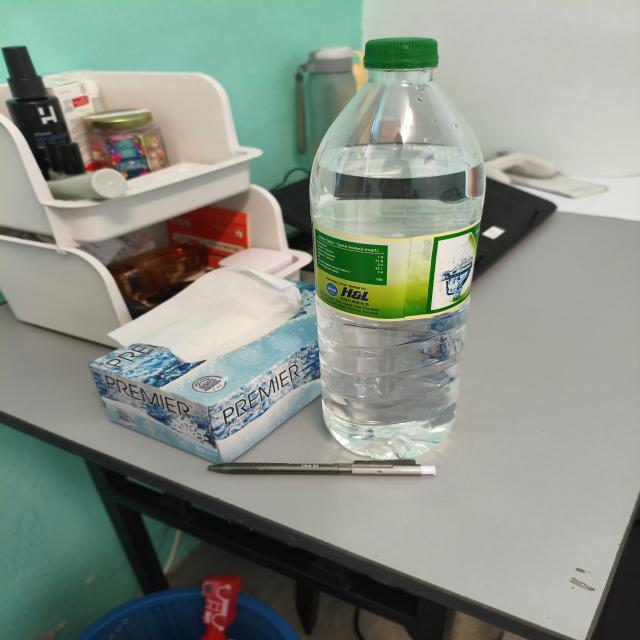pen: (208, 459, 436, 476)
